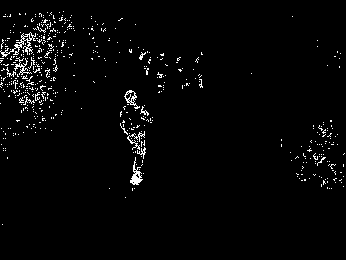person: (118, 89, 154, 187)
